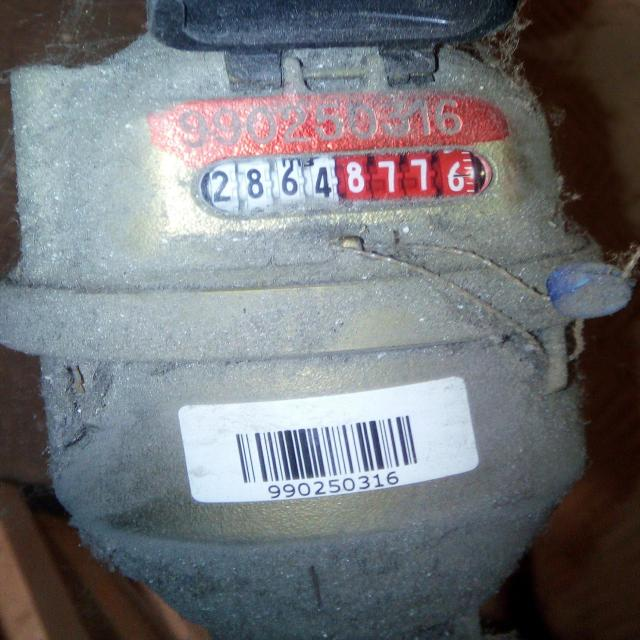gaz_meter: (23, 47, 611, 306)
indication: (201, 146, 492, 215)
